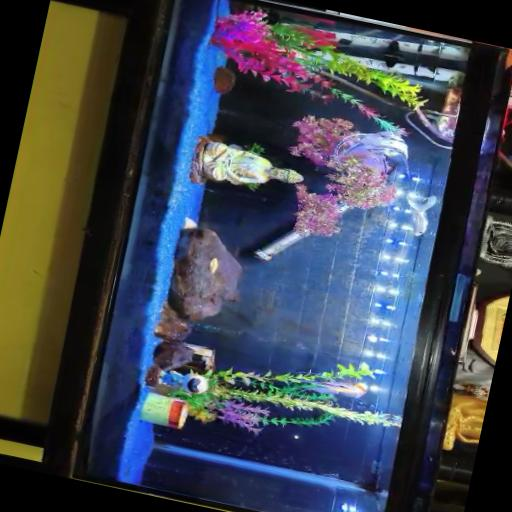Fish: (333, 130, 408, 171), (406, 195, 435, 235), (309, 380, 365, 397), (208, 258, 217, 272)
